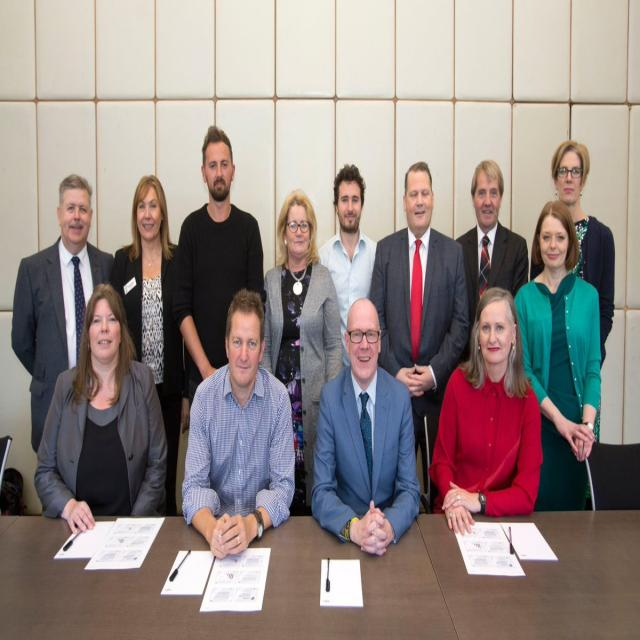body: (367, 160, 471, 514), (32, 282, 168, 536), (181, 286, 296, 560), (427, 285, 545, 538), (309, 294, 422, 558), (10, 171, 115, 454), (513, 197, 604, 511), (259, 187, 344, 515), (176, 126, 268, 412), (112, 175, 185, 516), (529, 138, 617, 373), (454, 158, 530, 361), (315, 162, 379, 368)
